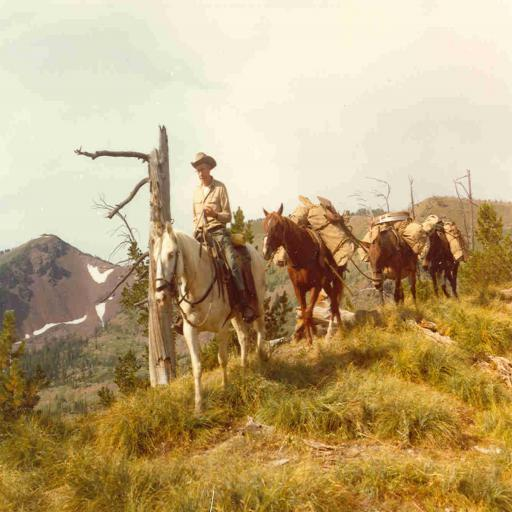horse: (156, 220, 266, 420), (260, 202, 348, 350), (358, 226, 418, 312), (417, 226, 461, 294)
